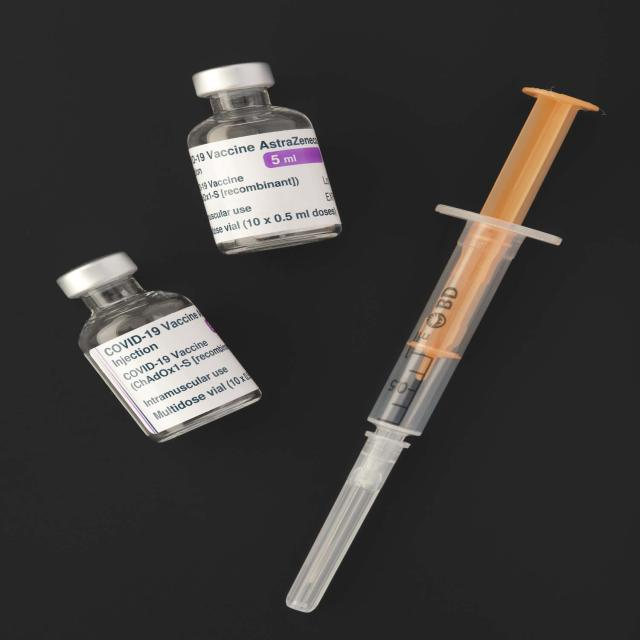syringe: (283, 85, 602, 613)
